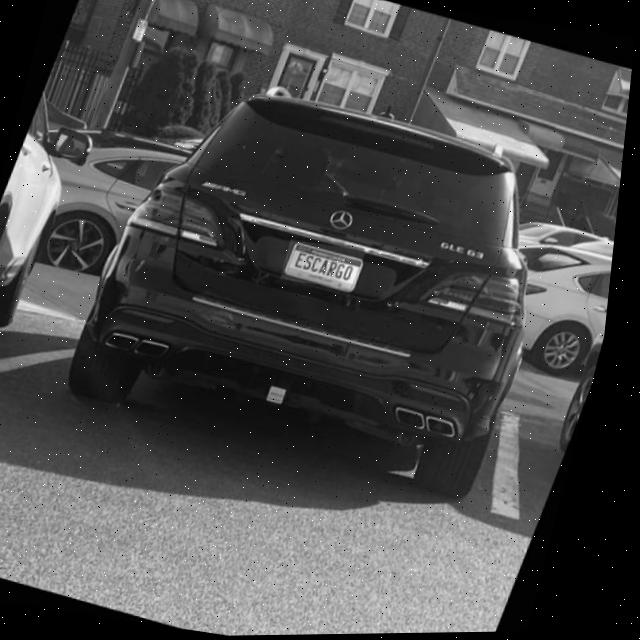LicensePlate: (288, 242, 369, 291)
